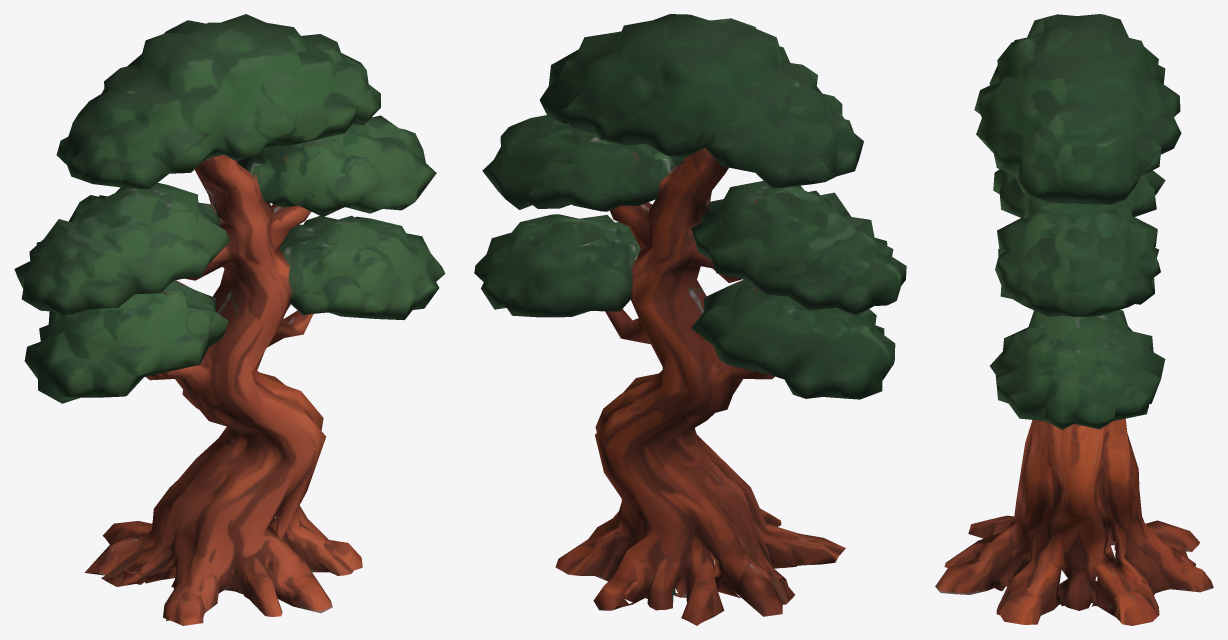
Rendered from pine.glb.
3 views of the same model, side by side, from view 1: azimuth 30°, elevation 25°; view 2: azimuth 150°, elevation 25°; view 3: azimuth 270°, elevation 25° (orthographic).
Visible parts, largest first — view 1: low; view 2: low; view 3: low.
Boxes of the visible parts, x1=… form: low: x1=14, y1=14, x2=445, y2=625; low: x1=474, y1=14, x2=906, y2=625; low: x1=935, y1=14, x2=1213, y2=625.
Size of the model in its own units: 0.7965 by 1 by 0.4663.
1 material, 1 textured.
